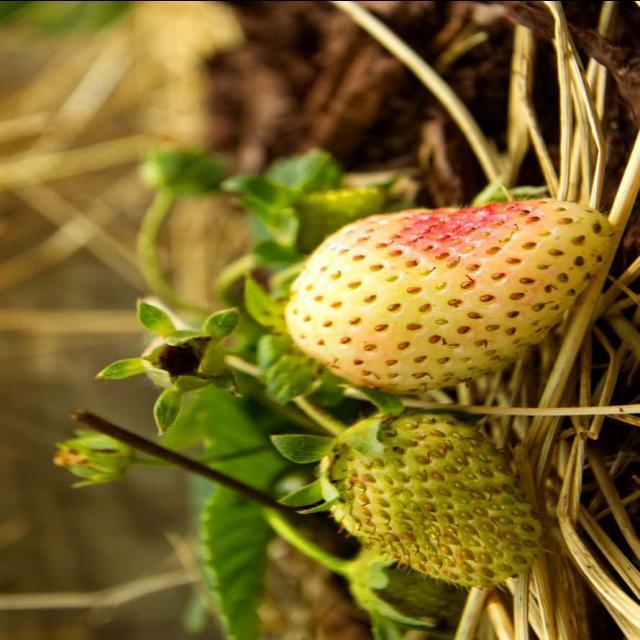unripe: (284, 196, 616, 391), (318, 411, 540, 584)
